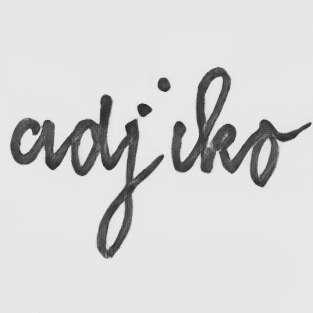a: (8, 115, 58, 172)
d: (67, 92, 114, 176)
i: (158, 76, 187, 174)
j: (93, 102, 154, 260)
k: (193, 66, 239, 176)
o: (247, 117, 282, 190)
